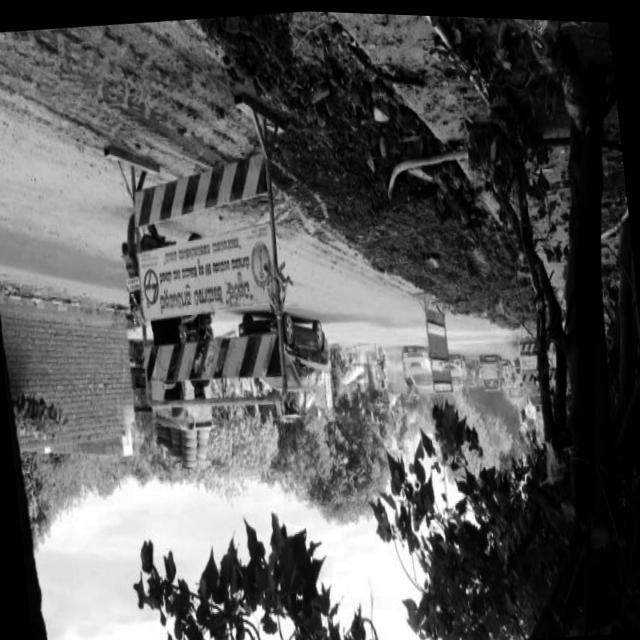cleat: (0, 9, 640, 640)
